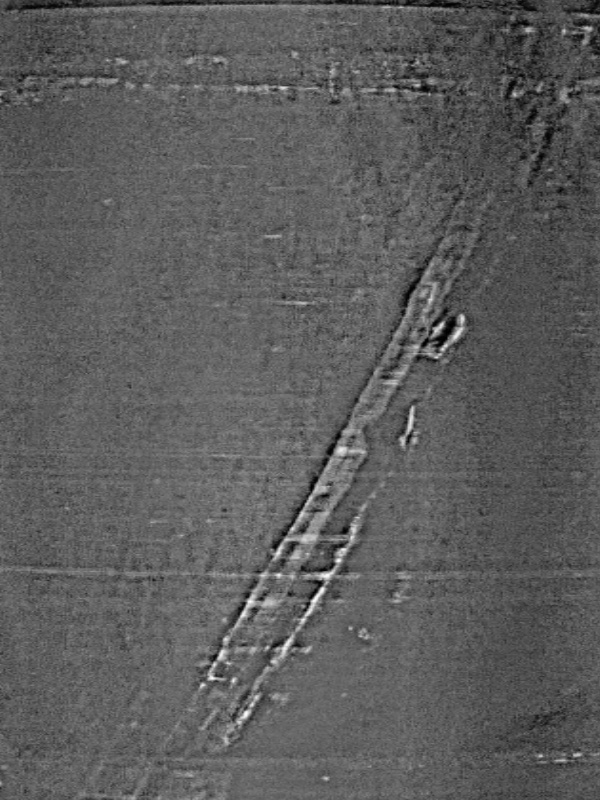splice_vulcanized: (84, 15, 594, 800)
